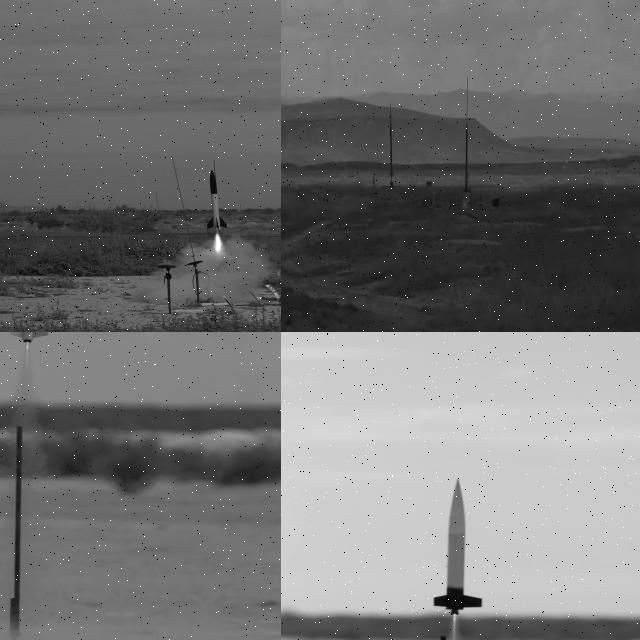Rocket: (433, 478, 483, 615), (205, 169, 229, 230), (389, 109, 394, 177), (464, 120, 469, 184)
